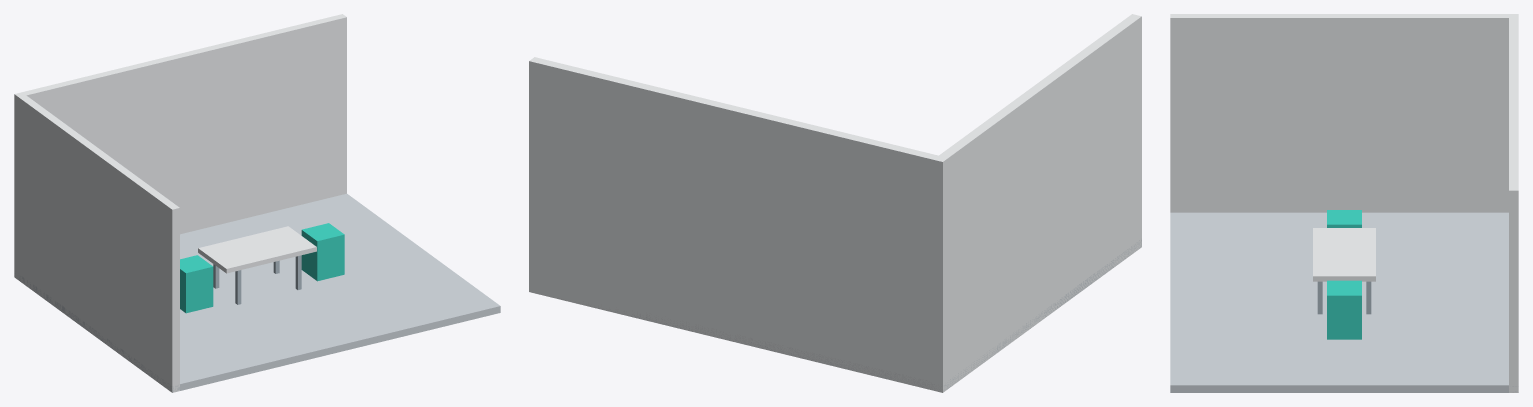
3 views of the same model, side by side, from view 1: azimuth 30°, elevation 25°; view 2: azimuth 150°, elevation 25°; view 3: azimuth 270°, elevation 25° (orthographic). The views are drawn at different scales.
Visible parts, largest first — view 1: Exhibition Booth Concept; view 2: Exhibition Booth Concept; view 3: Exhibition Booth Concept.
Part boxes in pixels (x1=…): Exhibition Booth Concept: x1=14, y1=14, x2=500, y2=392; Exhibition Booth Concept: x1=529, y1=14, x2=1141, y2=392; Exhibition Booth Concept: x1=1170, y1=14, x2=1518, y2=392.
Size of the model in its own units: 6 by 3.2 by 5.
